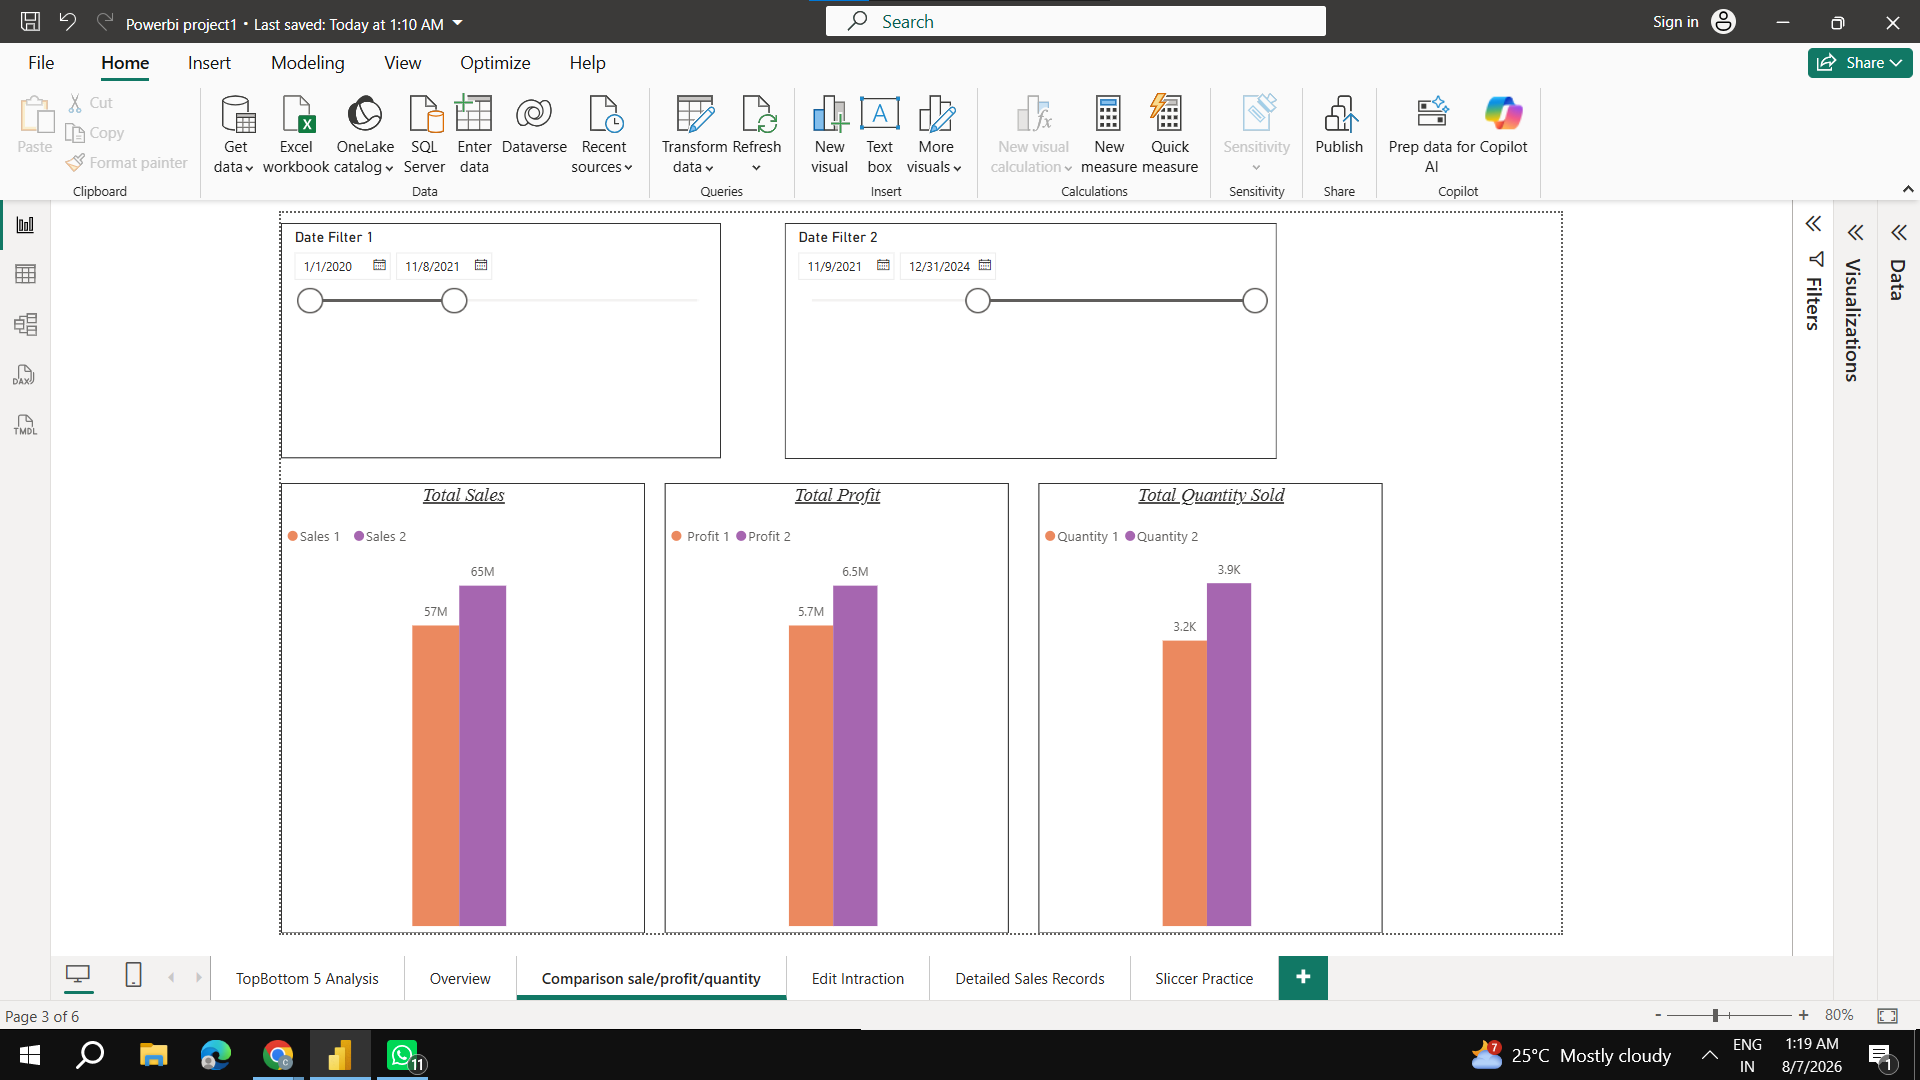

Layout of this report page (visuals, bound fields, positions):
{"tool":"powerbi","page":{"name":"Comparison sale/profit/quantity","canvas":[1280,720],"ordinal":2},"visuals":[{"type":"slicer","fields":{"Values":["Date Table 1.Date"]},"box":[0,10,440,235],"z":0},{"type":"slicer","fields":{"Values":["Date Table 2.Date"]},"box":[504,10,492,236],"z":1000},{"type":"clusteredColumnChart","title":"Total Sales","fields":{"Y":["Sum(Fact Table.Net sales  )","Date Table 1.Sym of Net Sales"]},"box":[0,270,364,450],"z":2000},{"type":"clusteredColumnChart","title":"Total Profit","fields":{"Y":["Sum(Fact Table.Profit)","Measures Table.Total Profit"]},"box":[384,270,344,450],"z":3000},{"type":"clusteredColumnChart","title":"Total Quantity Sold","fields":{"Y":["Sum(Fact Table.Units Sold)","Measures Table.Quantity Sold"]},"box":[758,270,344,450],"z":4000}]}

Visuals, with their boxes on the page's 1280x720 design canvas (x1, y1, x2, y2). These are canvas units, not pixel positions in the 1920x1080 screenshot, which may show the page scaled, cropped or inside an application window:
slicer - Date Table 1.Date: crop(0, 10, 440, 245)
slicer - Date Table 2.Date: crop(504, 10, 996, 246)
"Total Sales" clusteredColumnChart: crop(0, 270, 364, 720)
"Total Profit" clusteredColumnChart: crop(384, 270, 728, 720)
"Total Quantity Sold" clusteredColumnChart: crop(758, 270, 1102, 720)
